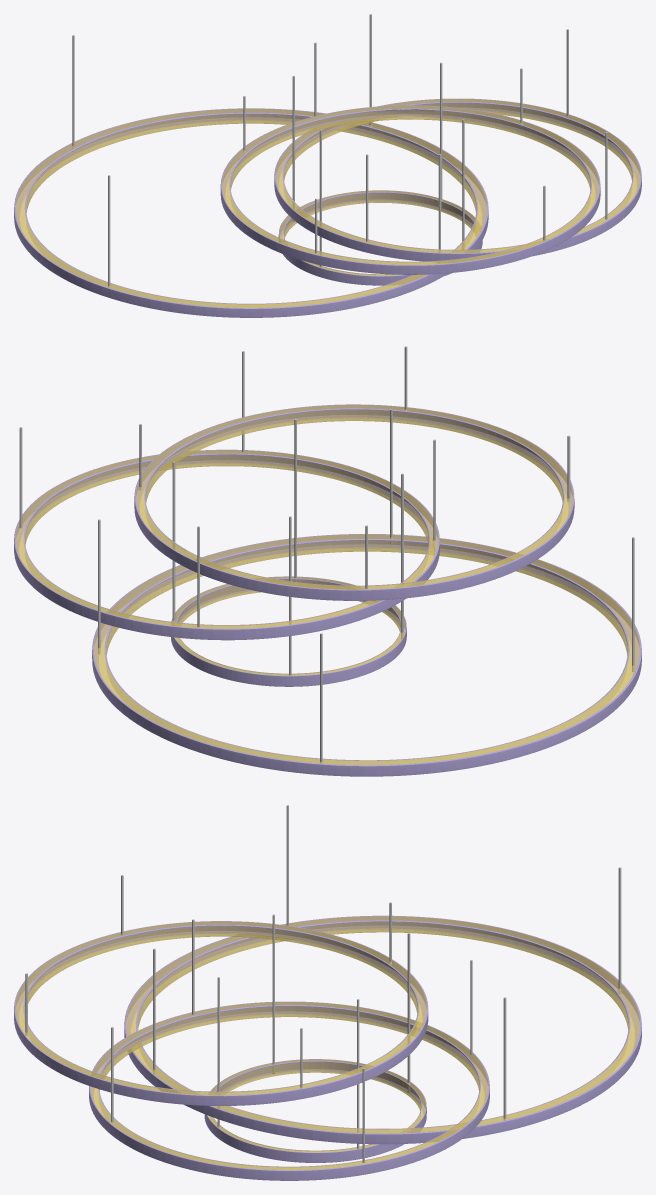
The model's file is Luster Circolo N231216.obj.
The picture shows the model from 3 angles, top to bottom: view 1: azimuth 30°, elevation 25°; view 2: azimuth 150°, elevation 25°; view 3: azimuth 270°, elevation 25°; orthographic projection. The views are drawn at different scales.
Parts seen in each view (by area): view 1: Cylinder009, Object016; view 2: Cylinder009, Object016; view 3: Cylinder009, Object016.
Boxes of the visible parts, x1,y1,x2,y2 form: Cylinder009: (14, 98, 641, 317); Object016: (72, 14, 607, 287); Cylinder009: (14, 404, 641, 776); Object016: (19, 346, 634, 763); Cylinder009: (14, 915, 641, 1180); Object016: (25, 805, 621, 1162).
Size of the model in its own units: 1812 by 482 by 1710.
